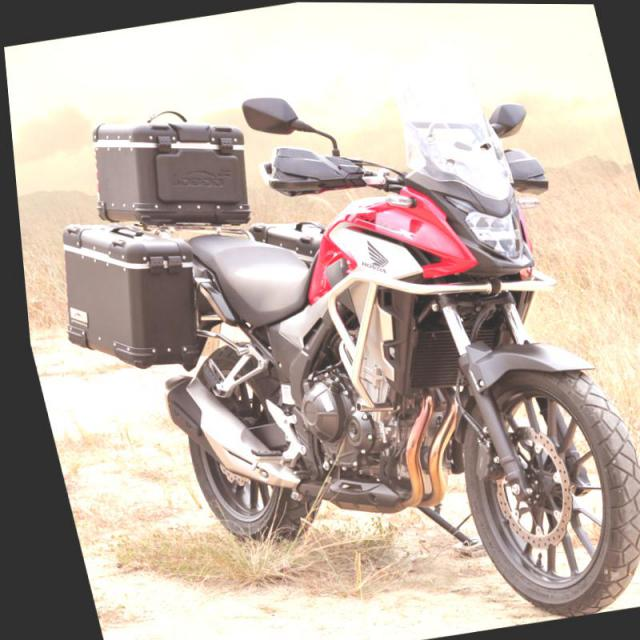CB500X: (85, 35, 639, 639)
